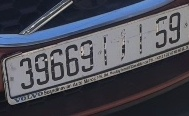3: (18, 56, 34, 91)
5: (154, 17, 169, 48)
6: (50, 46, 65, 83), (64, 44, 80, 77)
9: (168, 10, 183, 46), (80, 38, 94, 72), (35, 51, 48, 87)
a: (116, 28, 129, 62)
